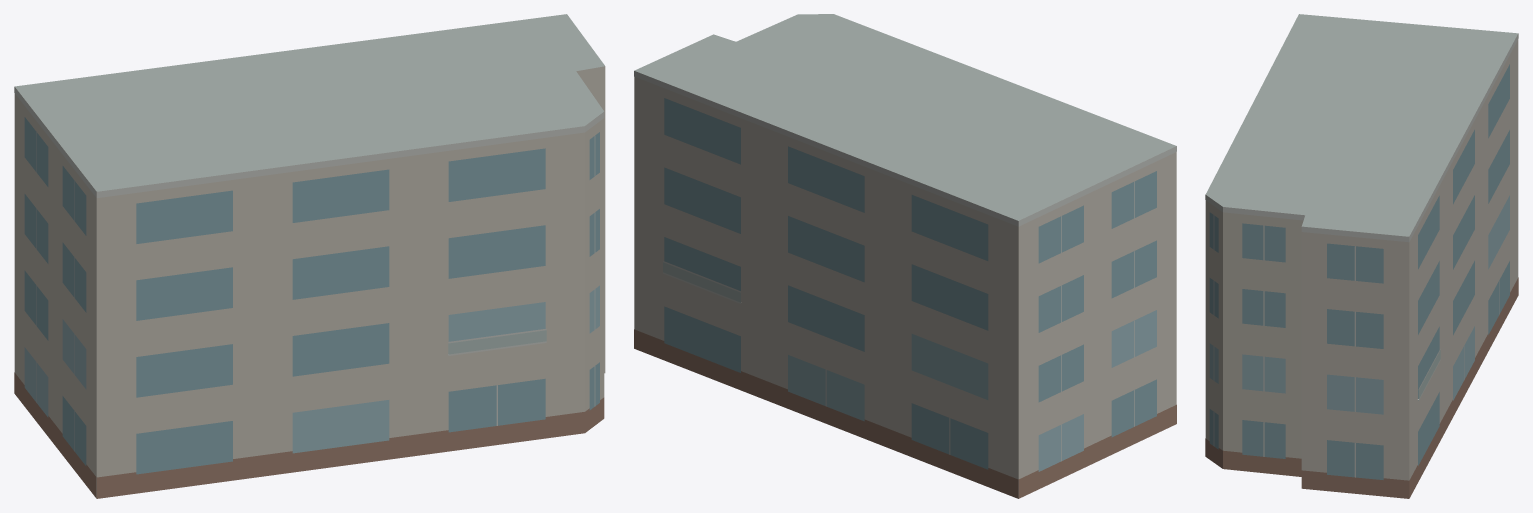
The model's file is survey-upis-32705796.glb.
The picture shows the model from 3 angles, left to right: view 1: azimuth 30°, elevation 25°; view 2: azimuth 150°, elevation 25°; view 3: azimuth 270°, elevation 25°; orthographic projection. The views are drawn at different scales.
Visible parts, largest first — view 1: survey-upis-32705796.tmp; view 2: survey-upis-32705796.tmp; view 3: survey-upis-32705796.tmp.
Part boxes in pixels (bbox=[...]): survey-upis-32705796.tmp: bbox=[14, 14, 605, 498]; survey-upis-32705796.tmp: bbox=[634, 14, 1176, 498]; survey-upis-32705796.tmp: bbox=[1205, 14, 1518, 498].
Size of the model in its own units: 21.34 by 11.7 by 12.67.
